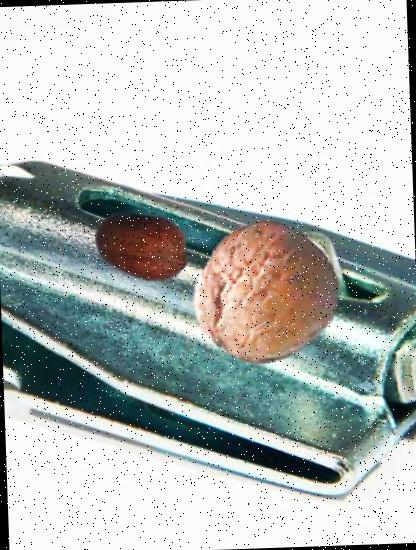Nut: (92, 198, 192, 299)
Walnut: (191, 222, 338, 368)
